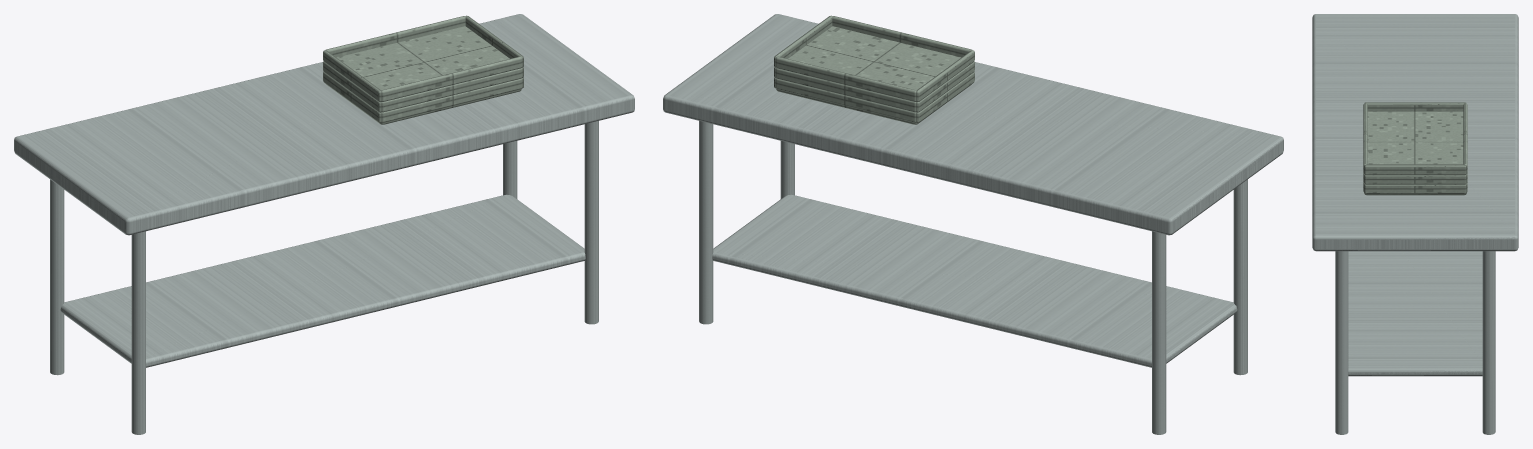
Rendered from detail-security-table-0.glb.
3 views of the same model, side by side, from view 1: azimuth 30°, elevation 25°; view 2: azimuth 150°, elevation 25°; view 3: azimuth 270°, elevation 25° (orthographic). The views are drawn at different scales.
Visible parts, largest first — view 1: worktop, shelf, leg (×4), tray_rim (×8), tray_bottom; view 2: worktop, shelf, leg (×4), tray_rim (×8), tray_bottom; view 3: worktop, shelf, tray_bottom, leg (×2), tray_rim (×6).
Part boxes in pixels (box(x1,y1,x2,y2)): worktop: box(14, 14, 634, 235); shelf: box(60, 194, 585, 367); leg (×4): box(50, 121, 598, 434); tray_rim (×8): box(323, 15, 523, 122); tray_bottom: box(337, 26, 509, 90); worktop: box(663, 14, 1283, 235); shelf: box(712, 194, 1237, 367); leg (×4): box(699, 121, 1247, 434); tray_rim (×8): box(774, 15, 974, 122); tray_bottom: box(788, 26, 960, 90); worktop: box(1312, 14, 1518, 251); shelf: box(1348, 251, 1482, 376); tray_bottom: box(1367, 111, 1463, 164); leg (×2): box(1335, 251, 1495, 434); tray_rim (×6): box(1363, 102, 1467, 193).
Bounding box in the file's own units: 1.8 × 0.91 × 0.7.
2 materials, 2 textured.
